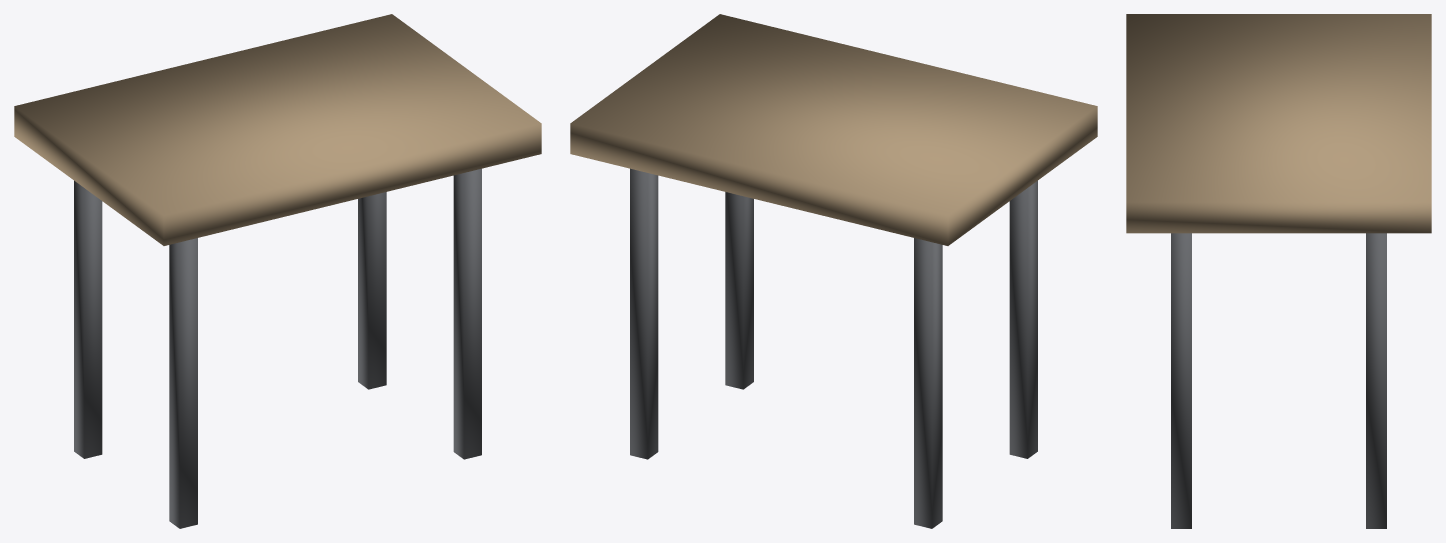
Rendered from diner_four_top__tall.glb.
3 views of the same model, side by side, from view 1: azimuth 30°, elevation 25°; view 2: azimuth 150°, elevation 25°; view 3: azimuth 270°, elevation 25° (orthographic). The views are drawn at different scales.
Parts seen in each view (by area): view 1: world; view 2: world; view 3: world.
Boxes of the visible parts, bbox=[...] form: world: bbox=[14, 14, 541, 528]; world: bbox=[570, 14, 1097, 528]; world: bbox=[1126, 14, 1431, 528].
Bounding box in the file's own units: 1.05 × 0.899 × 0.72.
